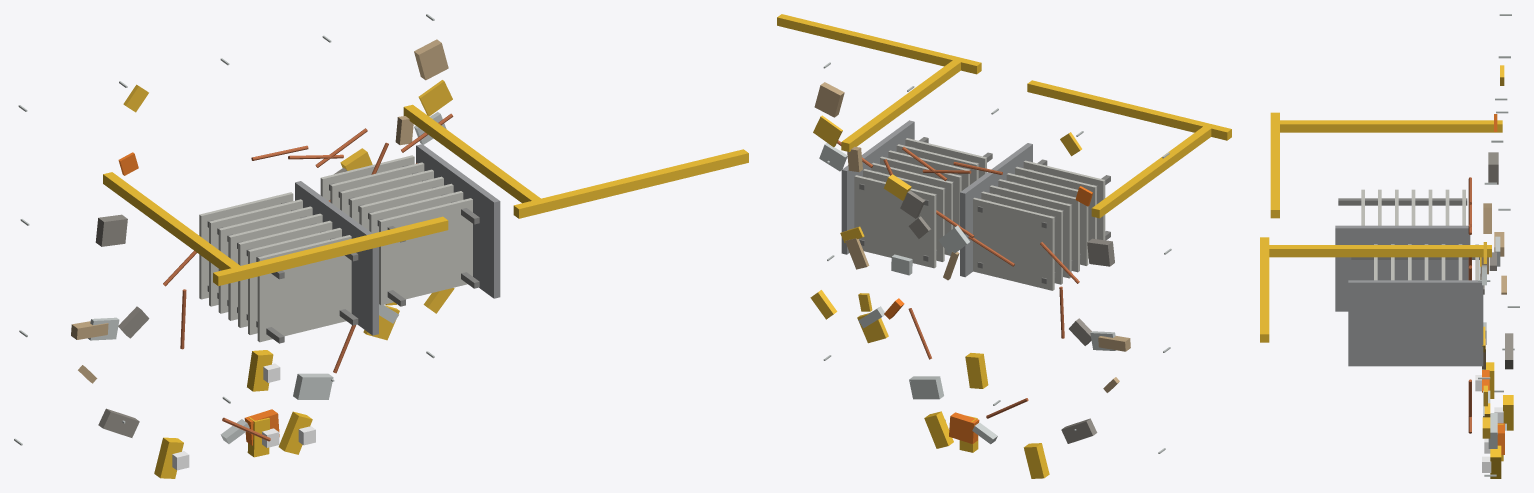
File: compact_highrise.glb
The picture shows the model from 3 angles, left to right: view 1: azimuth 30°, elevation 25°; view 2: azimuth 150°, elevation 25°; view 3: azimuth 270°, elevation 25°; orthographic projection. The views are drawn at different scales.
Visible parts, largest first — view 1: SM_HR_1_Floor_6, SM_HR_0_Floor_6, SM_HR_1_Scaffold, SM_HR_Crane_Boom_78, SM_HR_Crane_Boom_-18, SM_HR_0_Scaffold, SM_HR_Crane_Mast_-18, SM_HR_Crane_Mast_78, SM_HR_0_Floor_4, SM_HR_0_Floor_5, SM_HR_0_Floor_0, SM_HR_0_Floor_3 (+14 smaller); view 2: SM_HR_0_Floor_0, SM_HR_1_Floor_0, SM_HR_Crane_Boom_78, SM_HR_Crane_Boom_-18, SM_HR_0_Scaffold, SM_HR_1_Scaffold, SM_HR_Crane_Mast_-18, SM_HR_Crane_Mast_78, SM_HR_0_Floor_3, SM_HR_0_Floor_2, SM_HR_0_Floor_1, SM_HR_0_Floor_4 (+20 smaller); view 3: SM_HR_1_Scaffold, SM_HR_0_Scaffold, SM_HR_Crane_Mast_-18, SM_HR_Crane_Mast_78, SM_HR_Crane_Boom_-18, SM_HR_Crane_Boom_78, SM_HR_0_Column_-12_10, SM_Vehicle_14_body, SM_Vehicle_09_body, POLISH_Highrise_Clutter_7, POLISH_Highrise_Clutter_13, SM_HR_1_Column_-12_10 (+1 smaller).
Boxes of the visible parts, x1,y1,x2,y2 form: SM_HR_1_Floor_6: (379,198,472,305); SM_HR_0_Floor_6: (257,235,351,342); SM_HR_1_Scaffold: (416,144,500,298); SM_HR_Crane_Boom_78: (513,149,748,218); SM_HR_Crane_Boom_-18: (213,216,448,285); SM_HR_0_Scaffold: (295,181,378,335); SM_HR_Crane_Mast_-18: (103,172,242,270); SM_HR_Crane_Mast_78: (403,104,540,203); SM_HR_0_Floor_4: (238,220,332,327); SM_HR_0_Floor_5: (248,228,341,334); SM_HR_0_Floor_0: (199,192,293,299); SM_HR_0_Floor_3: (228,213,322,320); SM_HR_0_Floor_0: (973,197,1054,290); SM_HR_1_Floor_0: (854,175,936,268); SM_HR_Crane_Boom_78: (777,14,981,74); SM_HR_Crane_Boom_-18: (1027,80,1231,140); SM_HR_0_Scaffold: (960,143,1032,277); SM_HR_1_Scaffold: (841,120,914,254); SM_HR_Crane_Mast_-18: (1091,125,1213,218); SM_HR_Crane_Mast_78: (841,59,961,151); SM_HR_0_Floor_3: (998,179,1079,272); SM_HR_0_Floor_2: (989,185,1071,278); SM_HR_0_Floor_1: (981,191,1062,284); SM_HR_0_Floor_4: (1006,173,1088,265); SM_HR_1_Scaffold: (1348,280,1483,366); SM_HR_0_Scaffold: (1335,225,1470,311); SM_HR_Crane_Mast_-18: (1275,120,1502,132); SM_HR_Crane_Mast_78: (1269,245,1491,257); SM_HR_Crane_Boom_-18: (1270,112,1279,218); SM_HR_Crane_Boom_78: (1260,237,1269,342); SM_HR_0_Column_-12_10: (1338,198,1467,205); SM_Vehicle_14_body: (1503,395,1513,430); SM_Vehicle_09_body: (1490,445,1501,478); POLISH_Highrise_Clutter_7: (1488,152,1498,184); POLISH_Highrise_Clutter_13: (1505,333,1513,369); SM_HR_1_Column_-12_10: (1351,257,1479,259).
Bounding box in the file's own units: 191 × 127 × 84.64.
